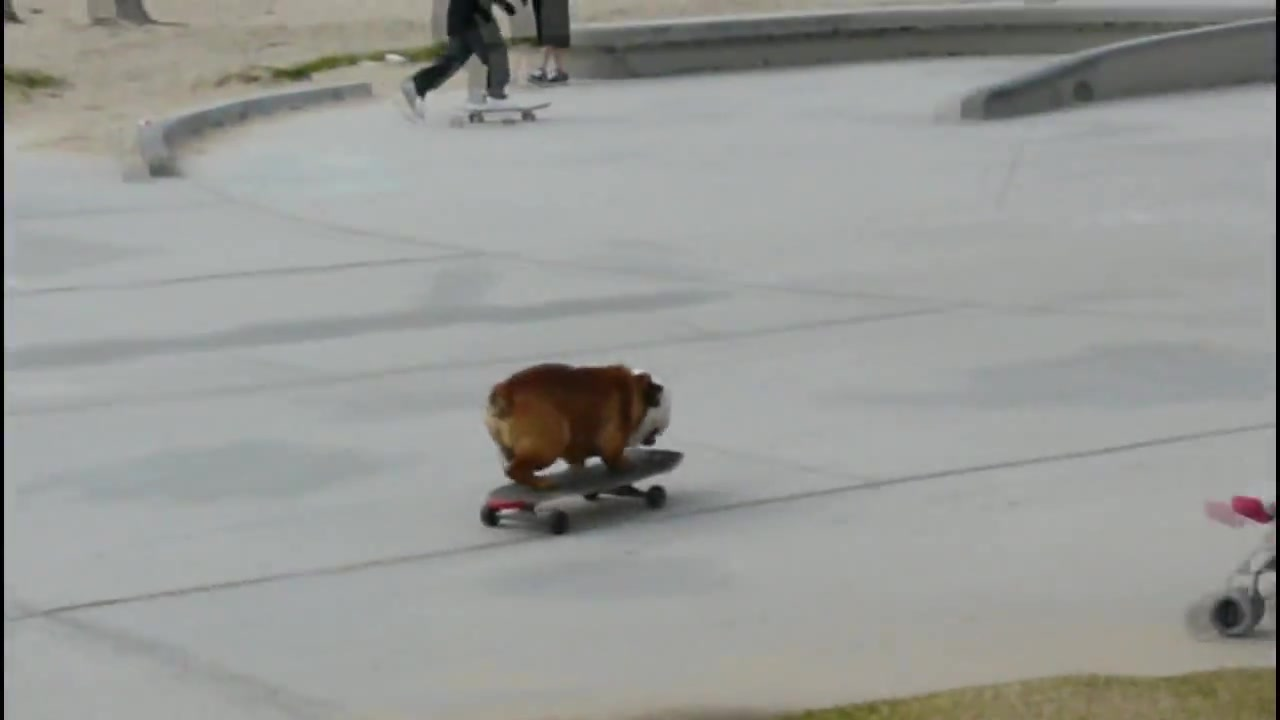dog: (485, 366, 671, 486)
